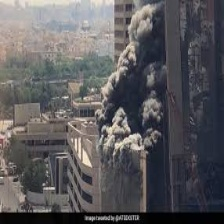smoke: (104, 4, 171, 154)
